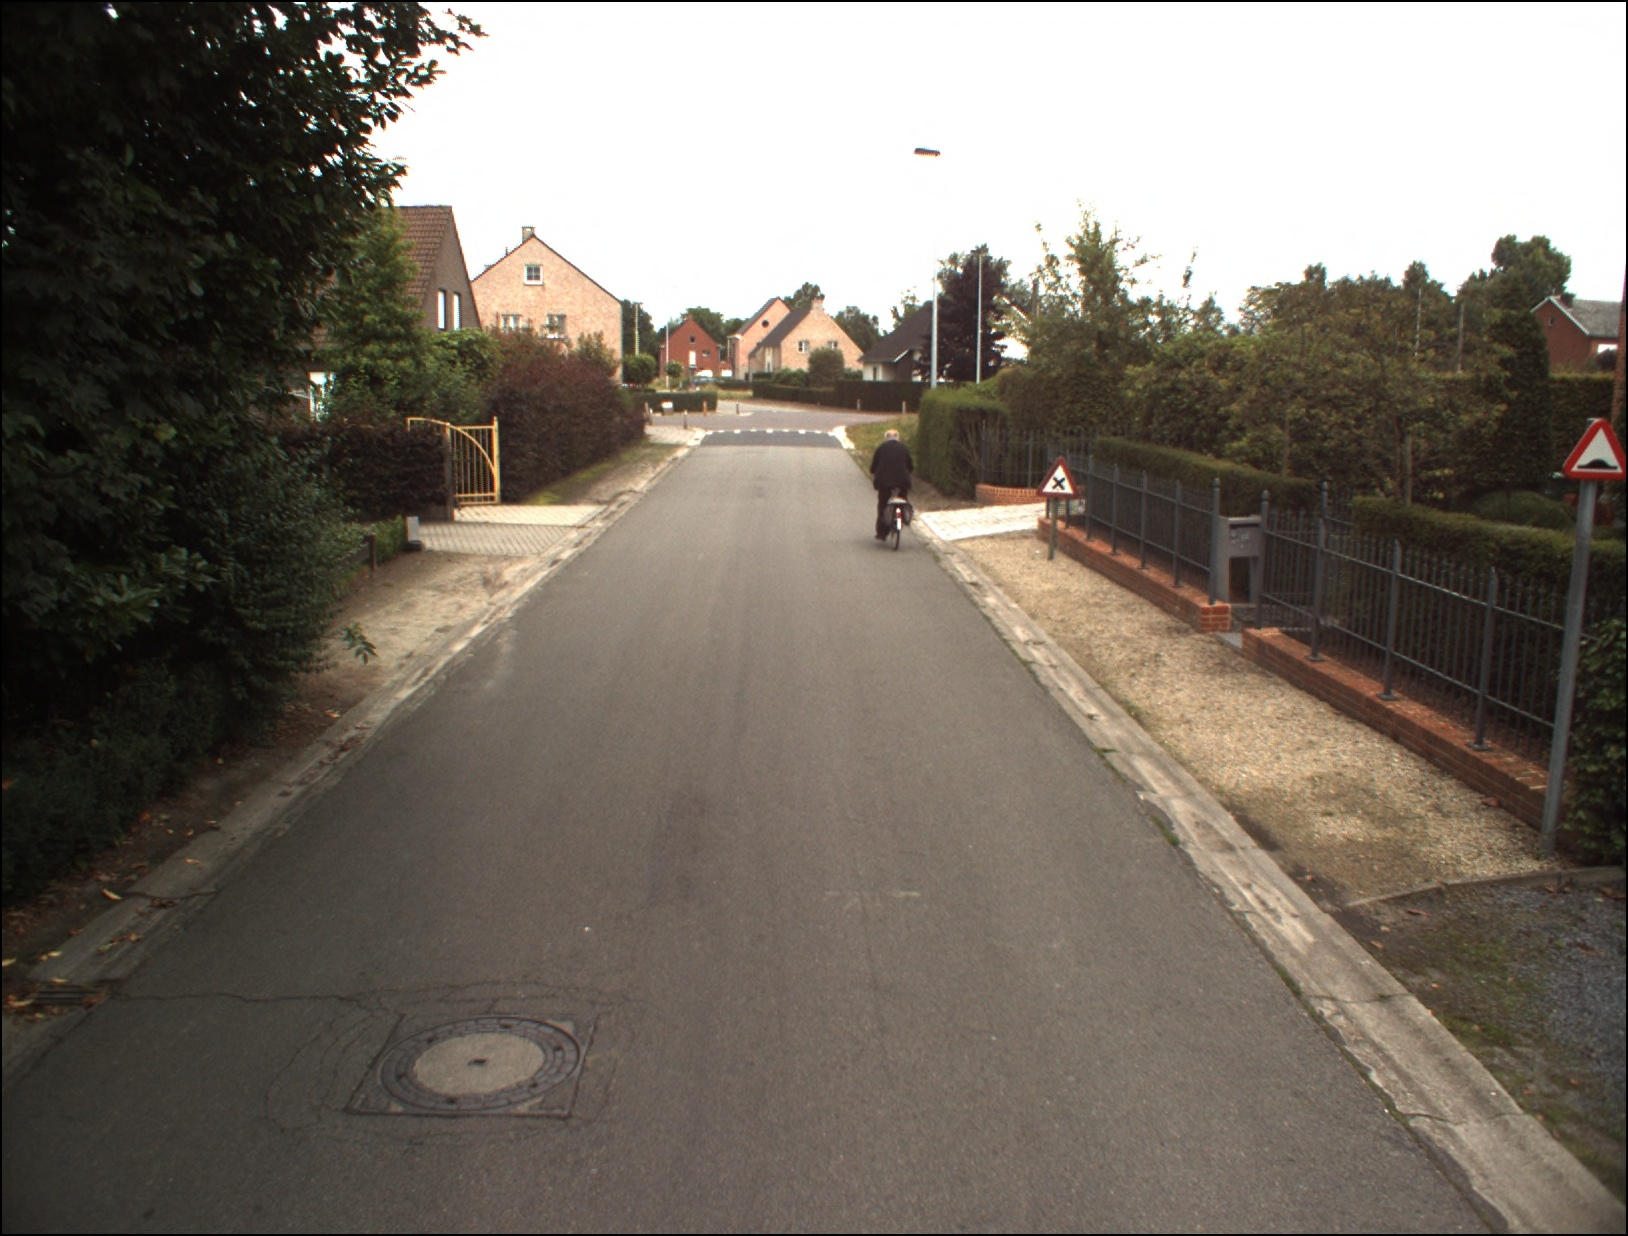speedbump: (1560, 419, 1625, 479)
